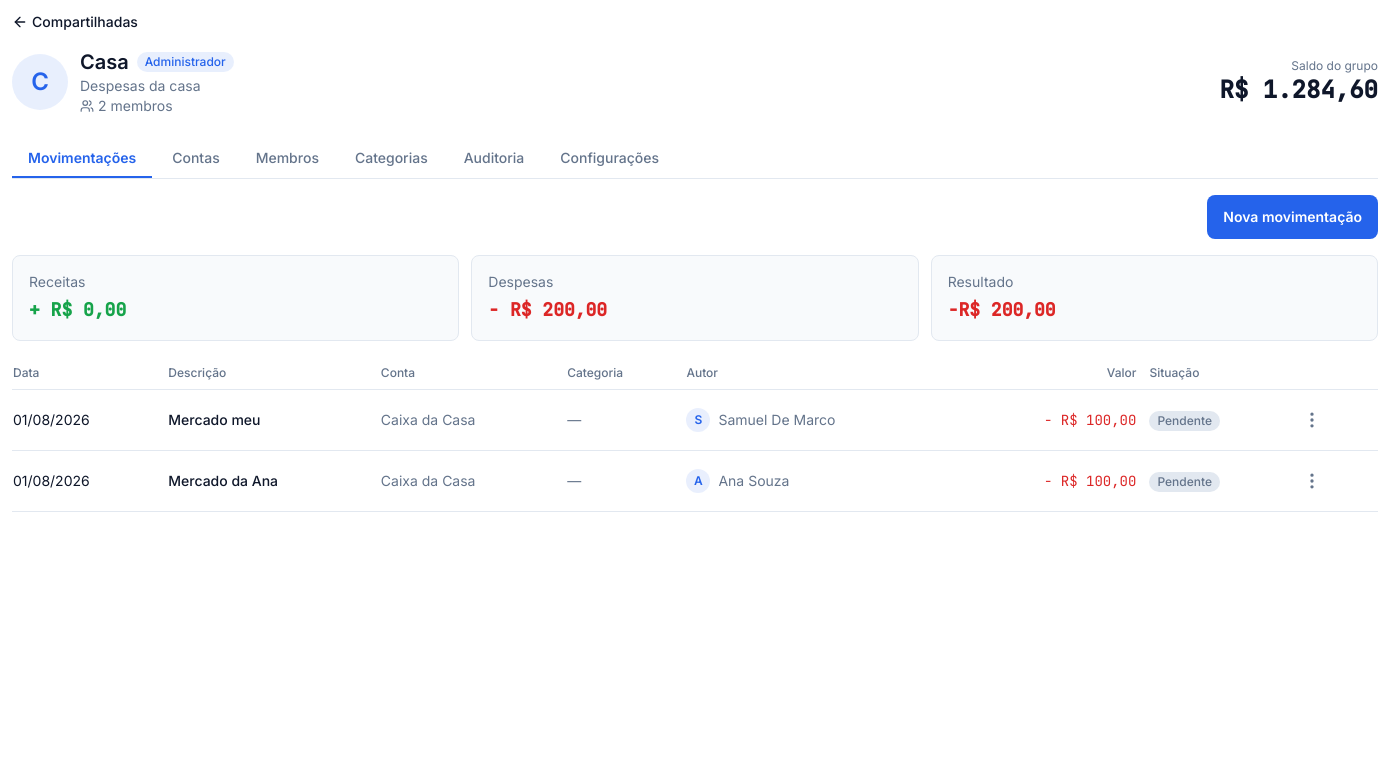
Test case: DetalheCompartilhada › aba Membros mostra papel e data de entrada de cada membro
Step 1. Click the tab "Membros" → (287, 159), box [240,140,335,178]
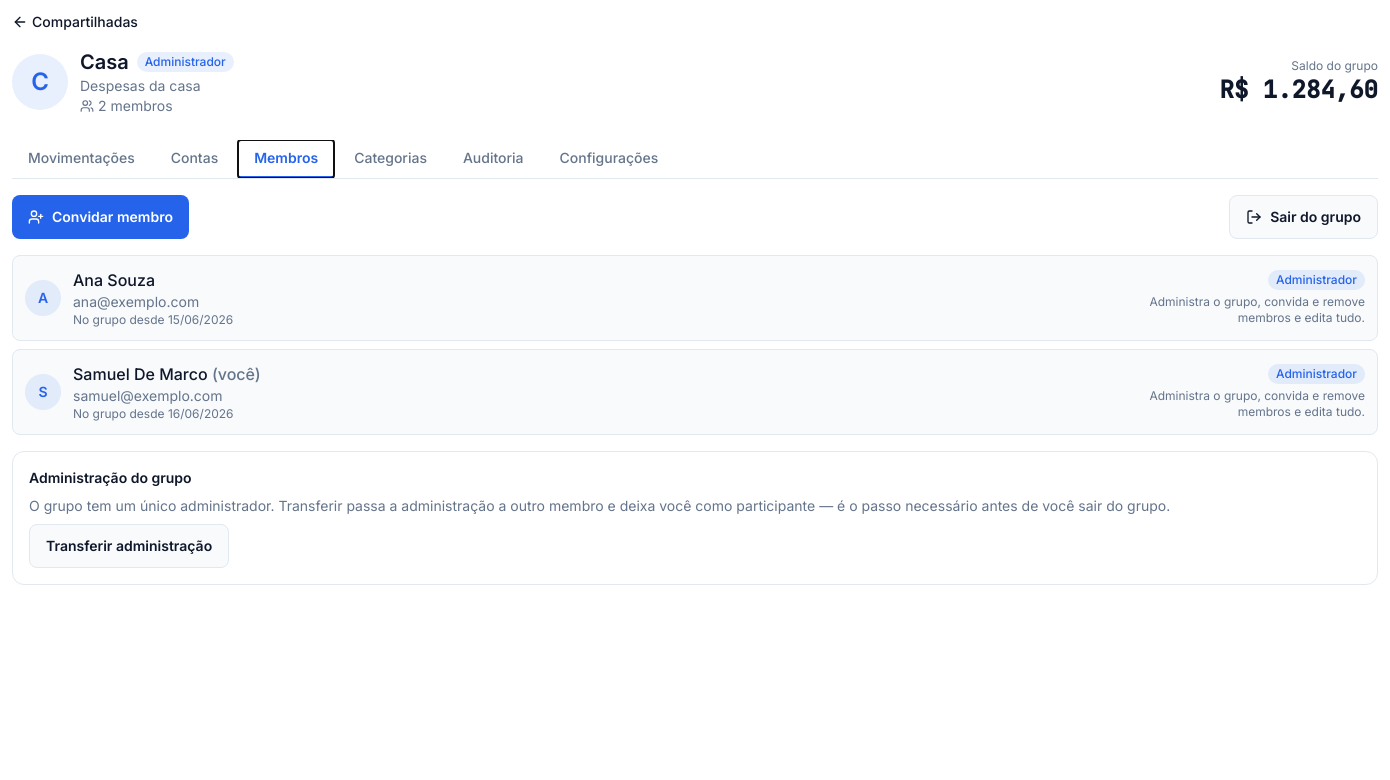
Check: the text "ana@exemplo.com" is shown, box [73,293,199,310]
Check: the text "No grupo desde 15/06/2026" is shown, box [73,312,233,327]
